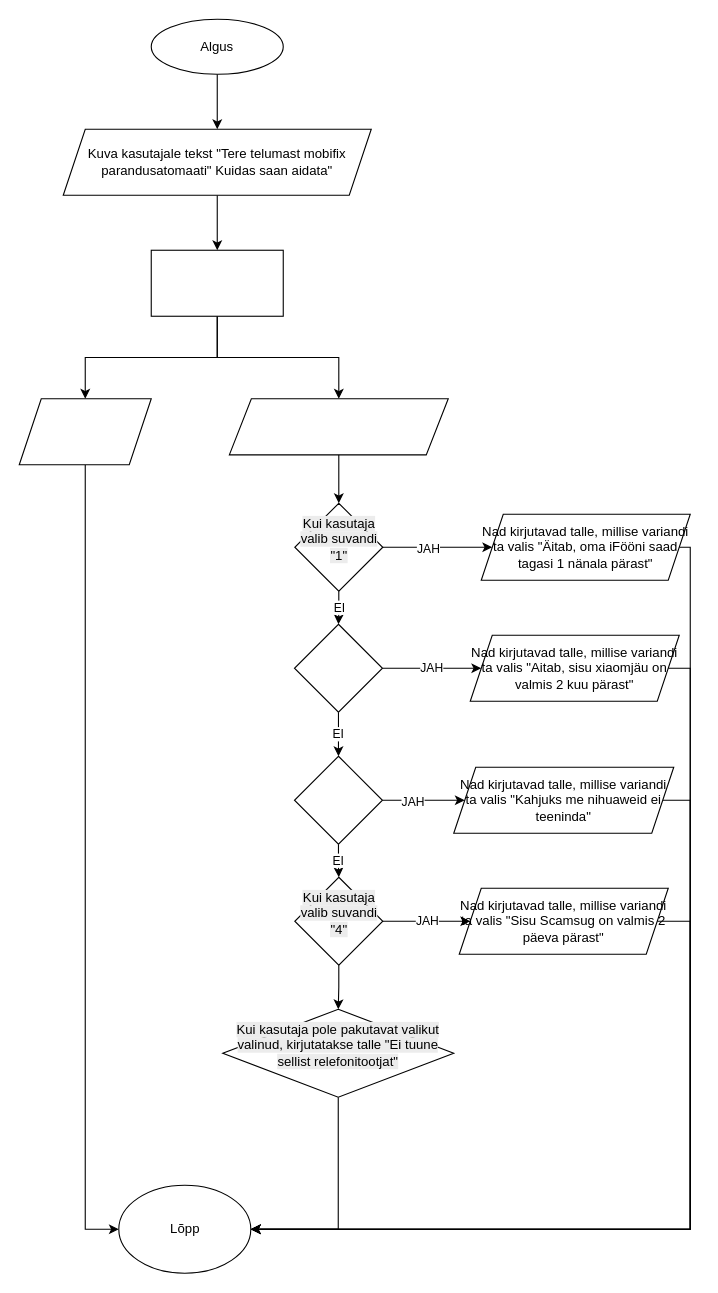
This 718x1293 diagram has some shape labels left out. Here are the shapes that lost their labels. From the top down, the centre of each, then its label:
pixel 216 282: Ootame kui kasutaja sisetab täisarvu "palun tee valik, kitjtades vastav arv"
pixel 84 431: kui inimene kirjutas 0 "headaega, telga teinekord jälle"
pixel 338 426: kui inimene valis 1. "Palun sisesta oma telefoni mudel, mida parandada soovid"
pixel 337 667: Kui kasutaja valib suvandi "2"
pixel 337 799: Kui kasutaja valib suvandi "3"
